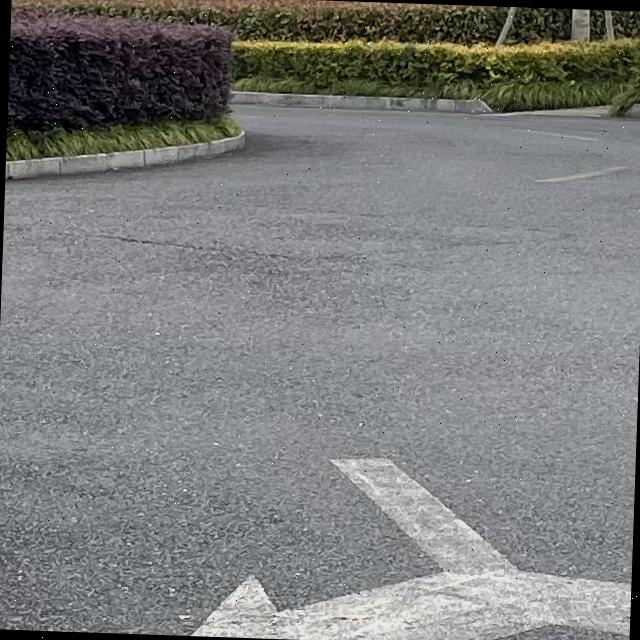curb: (5, 129, 243, 180), (233, 91, 491, 112)
